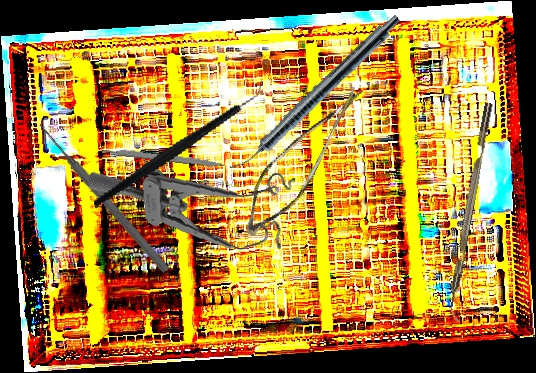Chopper: (74, 76, 283, 210), (443, 102, 503, 323)
Handpiece: (227, 8, 404, 181)
Micro Scissor: (235, 63, 365, 252)
Pusher: (35, 120, 172, 275)
Scalpel Handle: (100, 145, 226, 169)
Speculum: (88, 157, 300, 263)
